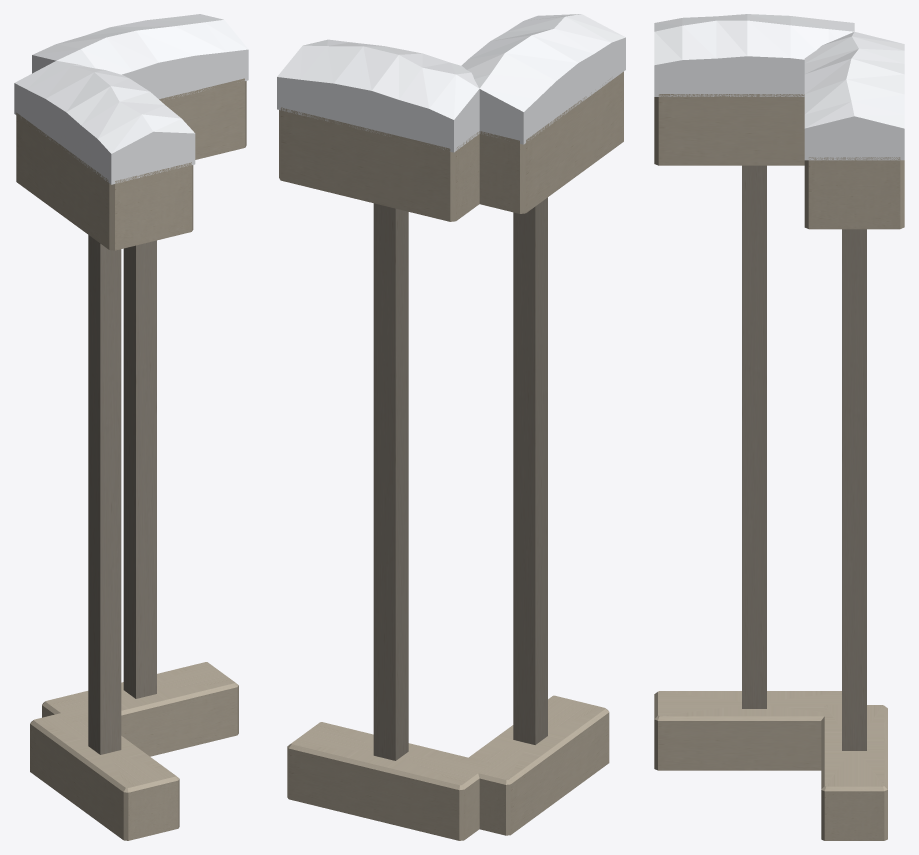
The model's file is railing_snow_corner.glb.
3 views of the same model, side by side, from view 1: azimuth 30°, elevation 25°; view 2: azimuth 150°, elevation 25°; view 3: azimuth 270°, elevation 25° (orthographic). The views are drawn at different scales.
Visible parts, largest first — view 1: canonical_base, snow_accumulation; view 2: canonical_base, snow_accumulation; view 3: canonical_base, snow_accumulation.
Boxes of the visible parts, box(x1,y1,x2,y2) form: canonical_base: box(16, 78, 246, 840); snow_accumulation: box(14, 14, 248, 184); canonical_base: box(279, 71, 623, 840); snow_accumulation: box(277, 14, 625, 152); canonical_base: box(654, 94, 904, 840); snow_accumulation: box(654, 14, 904, 160).
Bounding box in the file's own units: 0.3 × 0.976 × 0.3.
3 materials, 2 textured.
